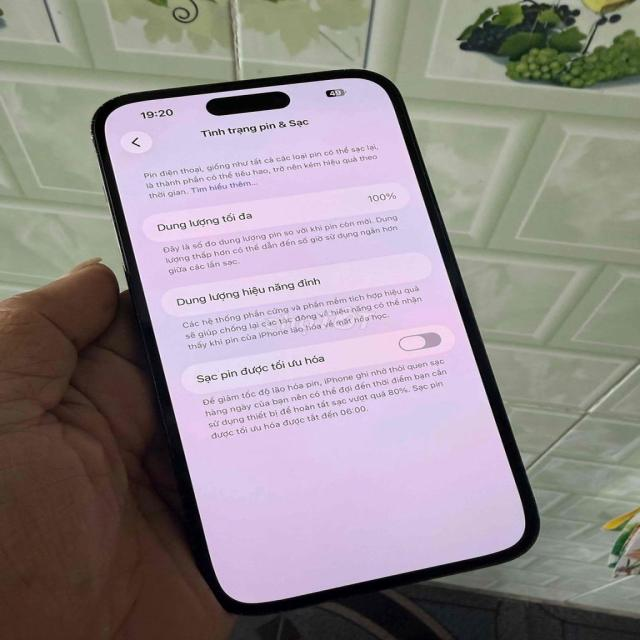gen_14: (83, 62, 552, 614)
